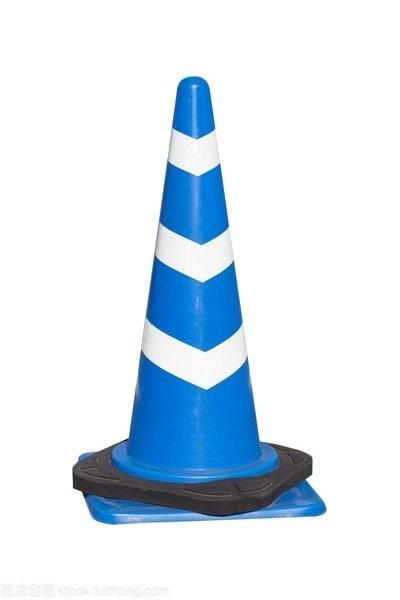cone_barrel: (104, 72, 284, 488)
